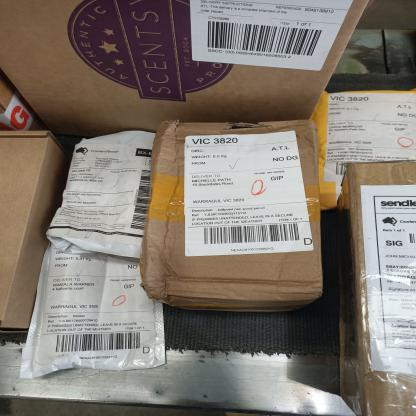label: (178, 132, 315, 257), (184, 0, 352, 84), (46, 251, 158, 367), (358, 182, 416, 376), (61, 132, 159, 241), (324, 87, 416, 170)
package: (0, 0, 369, 119), (151, 121, 324, 327), (340, 149, 416, 416), (29, 240, 172, 378), (0, 124, 61, 347), (58, 126, 161, 243)
